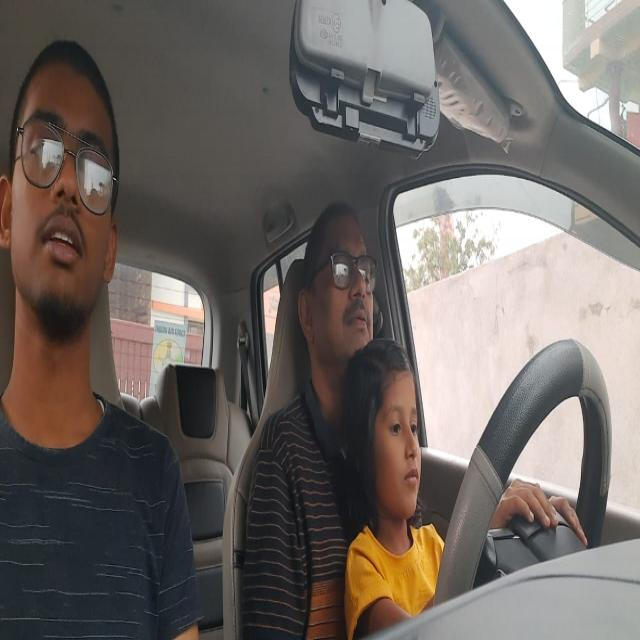child: (361, 332, 430, 535)
person: (0, 30, 122, 340), (298, 198, 386, 364)
